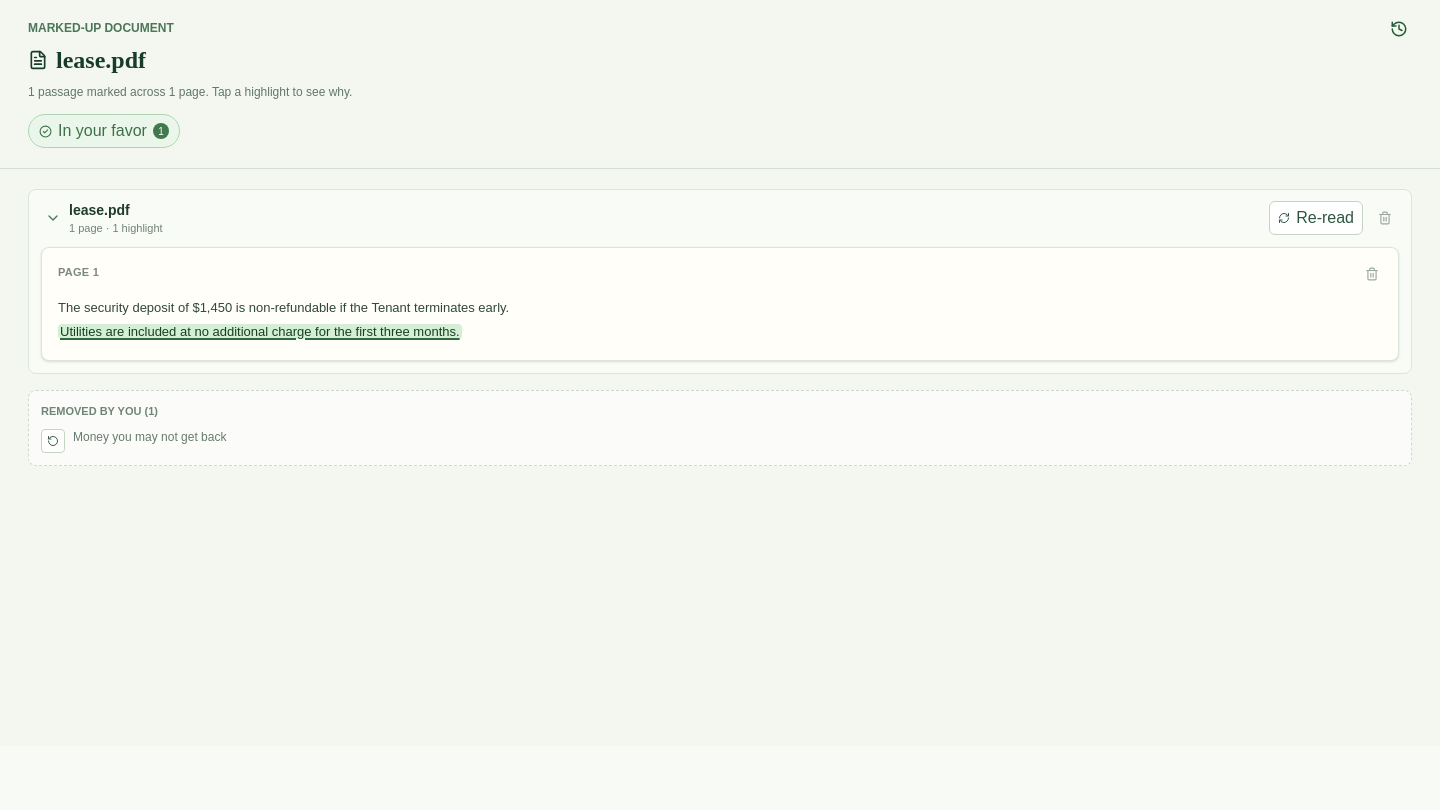
it: the change history › puts the edits back when restoring fails
Click the button named "History". click: (1399, 29)
box: left=1386, top=16, right=1412, bottom=42
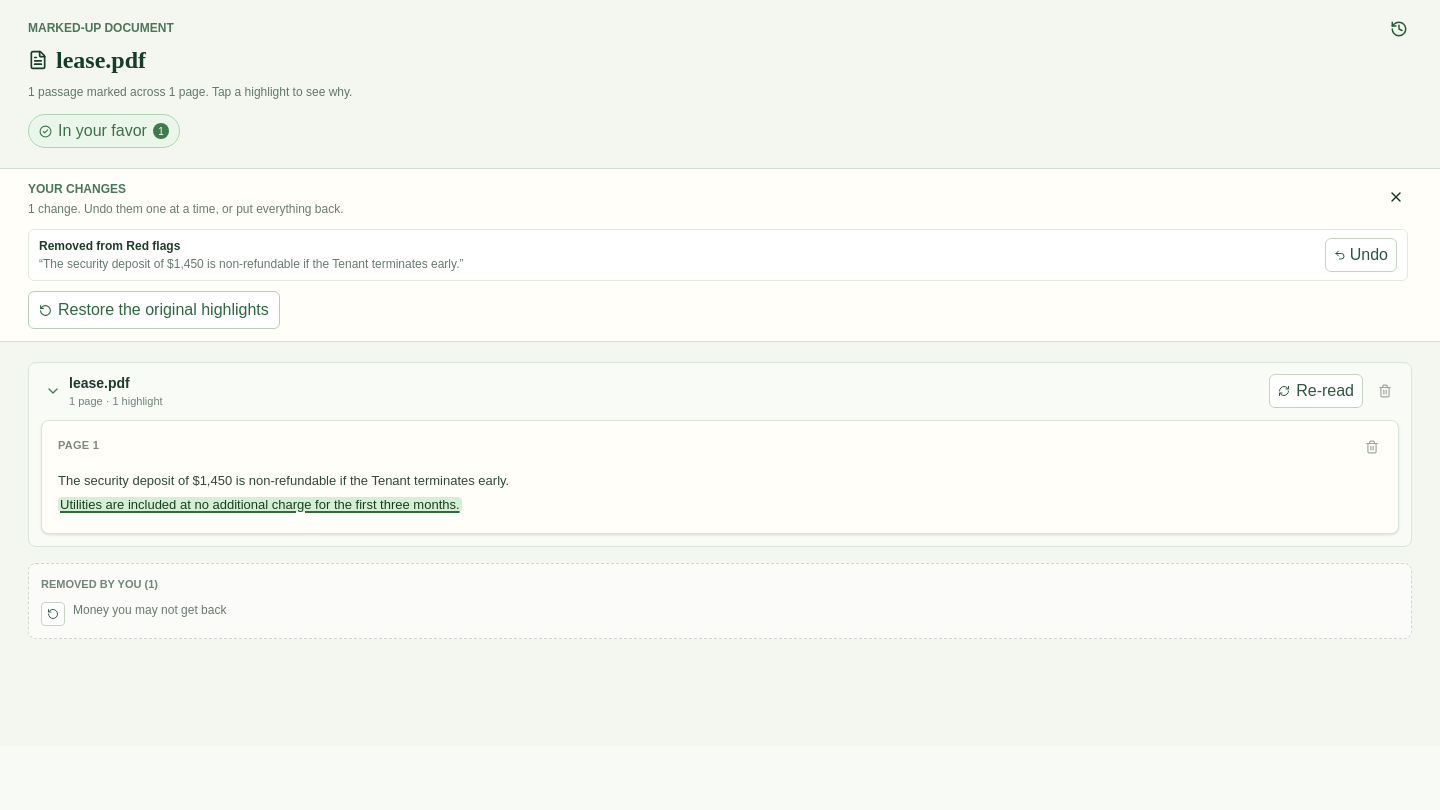
Click the button "Restore the original highlights". click: (154, 310)
box: left=28, top=291, right=280, bottom=329
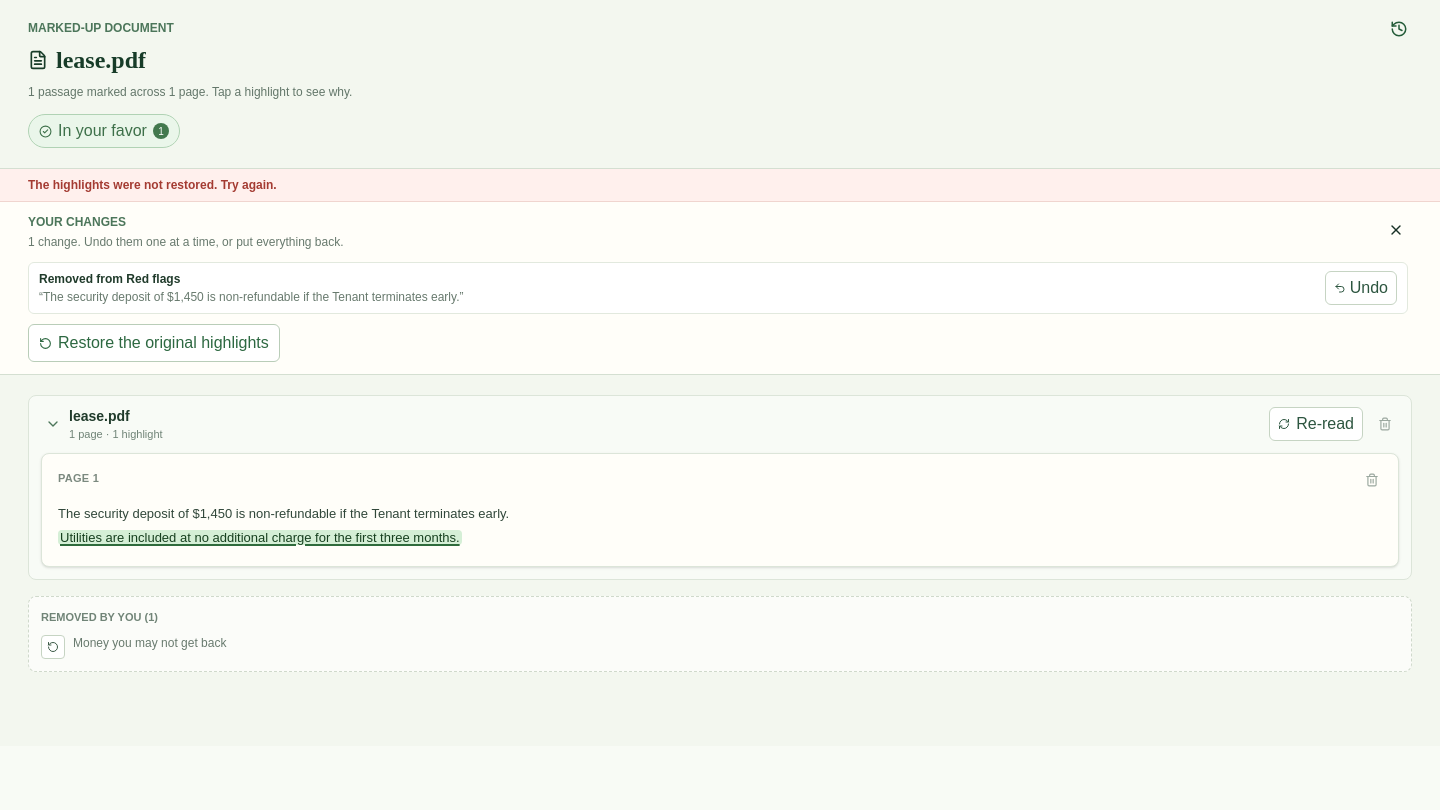
Expected: the message shows "were not restored", left=28, top=178, right=277, bottom=192
